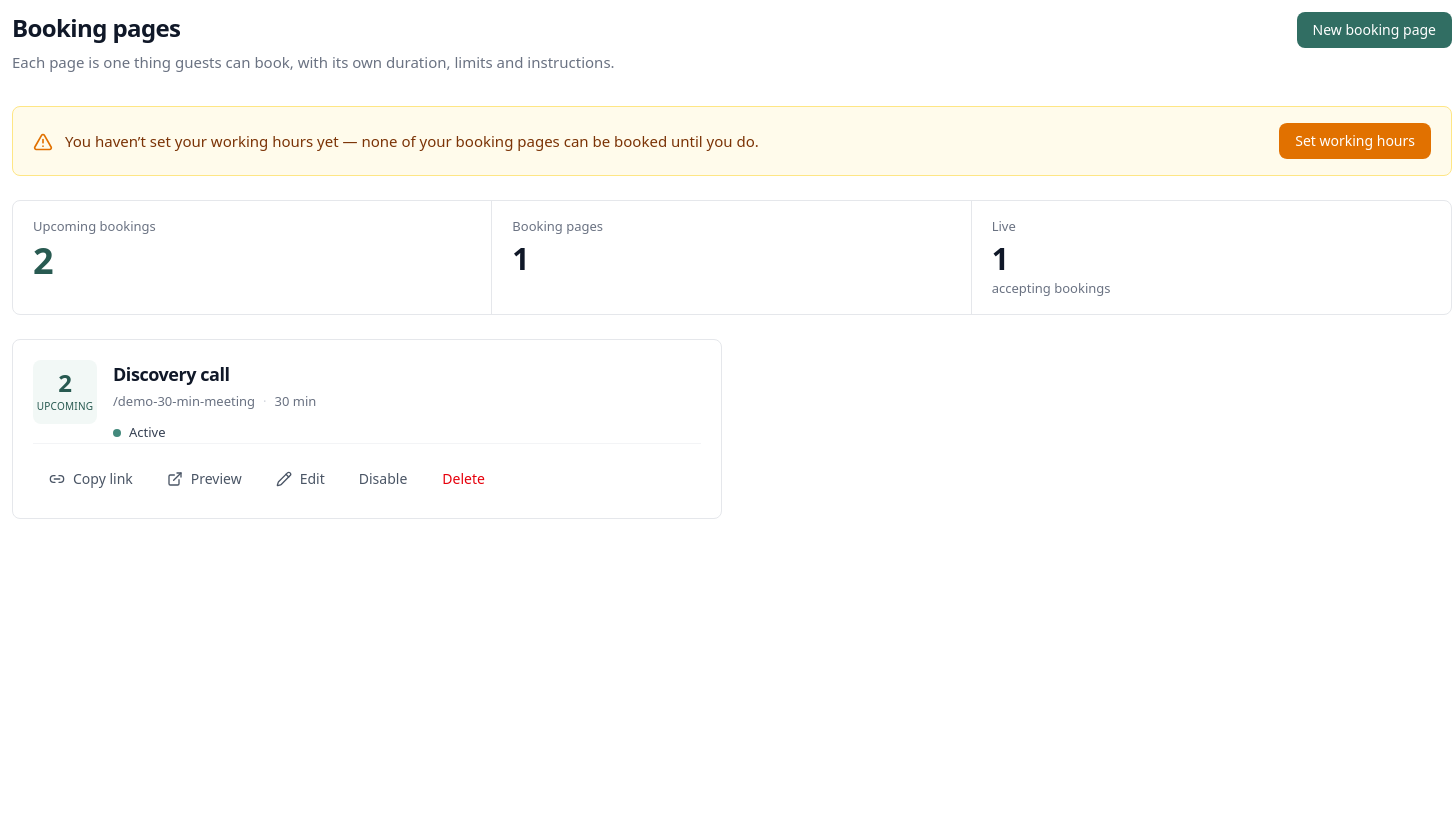
DashboardHomePage › asks before deleting, in the page rather than a browser dialog, and names the page
Step 1. Click the button "Delete" → (464, 479), box [425, 460, 502, 498]
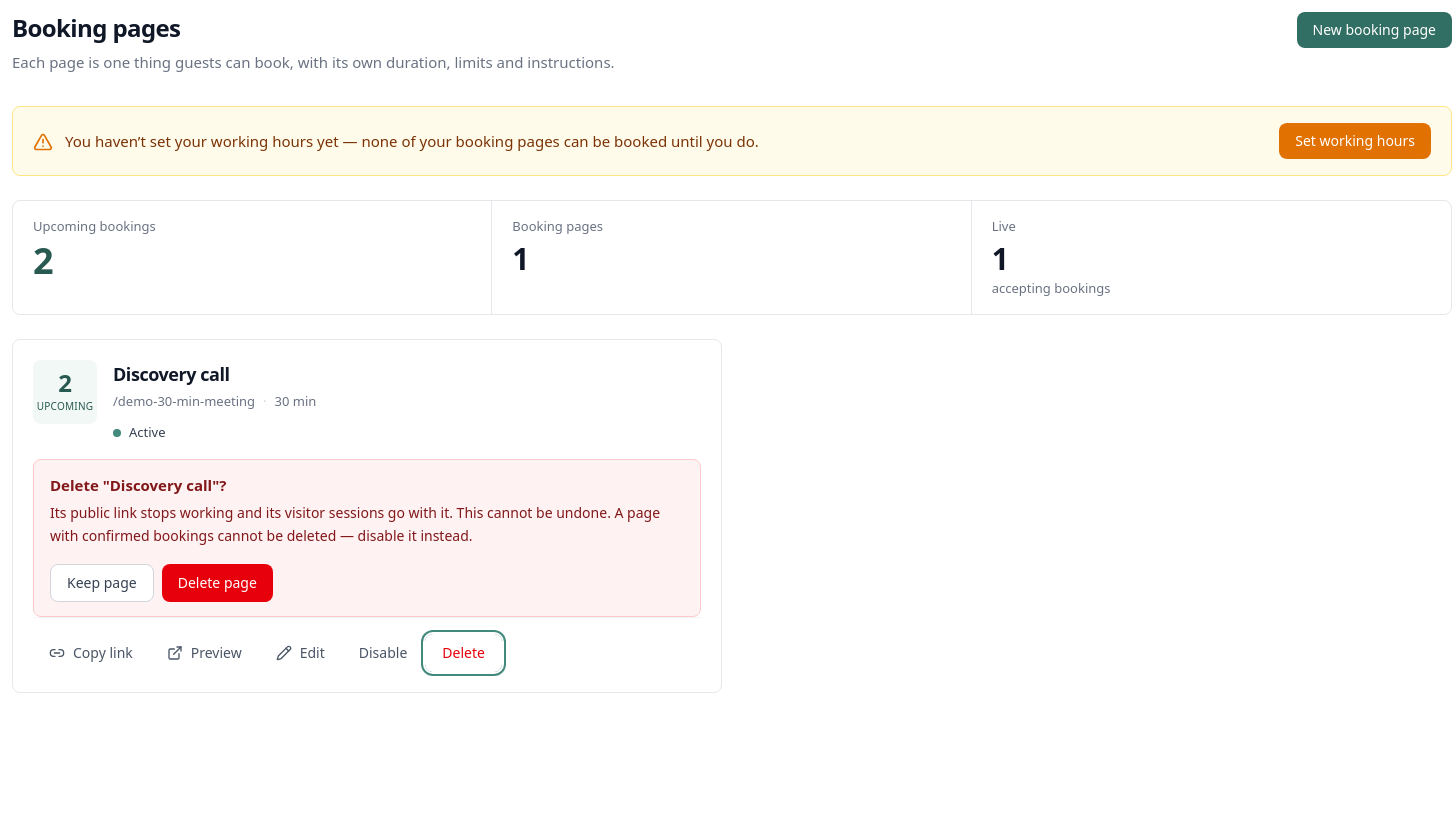
Expected: the text "public link stops working" is shown, [50, 503, 660, 545]
